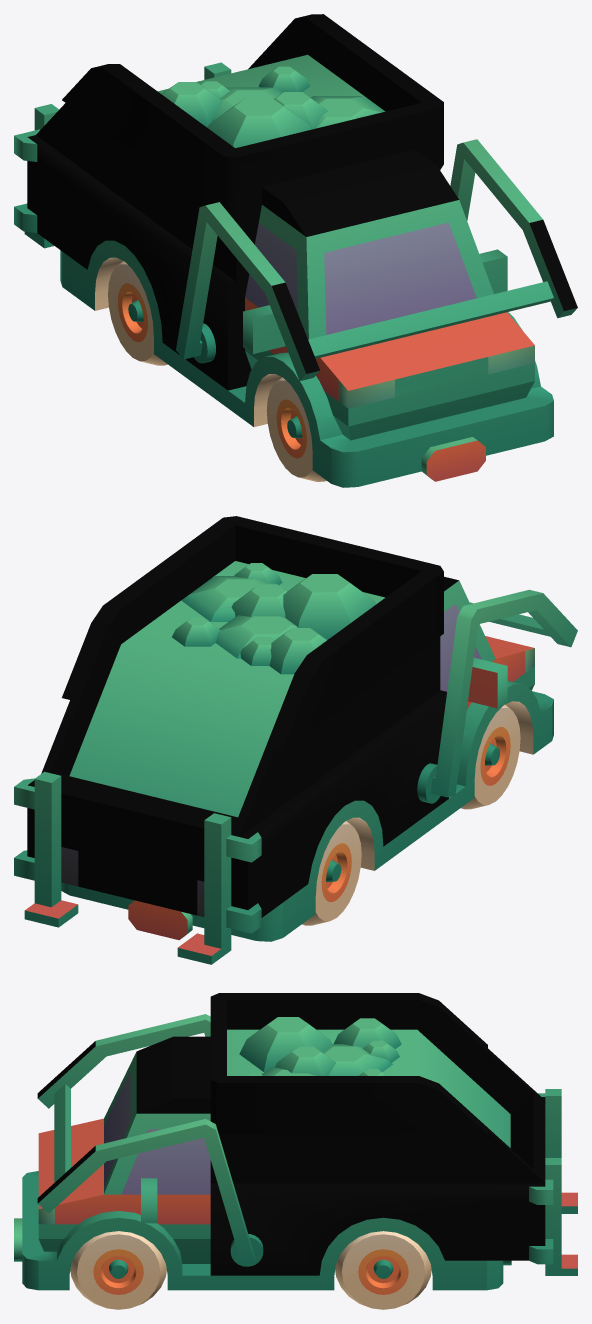
File: garbage-truck.glb
3 views of the same model, one above another, from view 1: azimuth 30°, elevation 25°; view 2: azimuth 150°, elevation 25°; view 3: azimuth 270°, elevation 25° (orthographic). The views are drawn at different scales.
Visible parts, largest first — view 1: body, arm, trash, wheel-back-right, wheel-front-right; view 2: body, trash, arm, wheel-front-right, wheel-back-right; view 3: body, arm, trash, wheel-front-left, wheel-back-left.
Part boxes in pixels (x1,y1,x2,y2): body: (14, 14, 553, 487); arm: (176, 139, 577, 380); trash: (161, 66, 385, 148); wheel-back-right: (108, 261, 167, 365); wheel-front-right: (266, 377, 326, 481); body: (14, 516, 553, 964); trash: (172, 563, 376, 674); arm: (417, 589, 577, 803); wheel-front-right: (461, 704, 520, 809); wheel-back-right: (302, 821, 361, 925); body: (14, 993, 577, 1290); arm: (37, 1014, 263, 1266); trash: (239, 1017, 401, 1075); wheel-front-left: (70, 1231, 166, 1309); wheel-back-left: (335, 1231, 431, 1309).
Size of the model in its own units: 1.6 by 1.6 by 3.45.
Materials: 1 (1 with a texture image).
